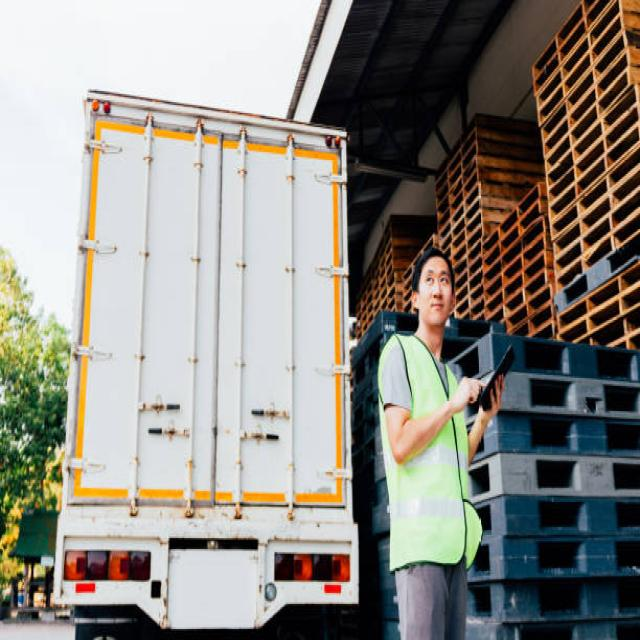Wooden-Pallets: (535, 21, 631, 150), (540, 80, 638, 200), (530, 0, 623, 104), (475, 173, 541, 270), (479, 230, 549, 309)
